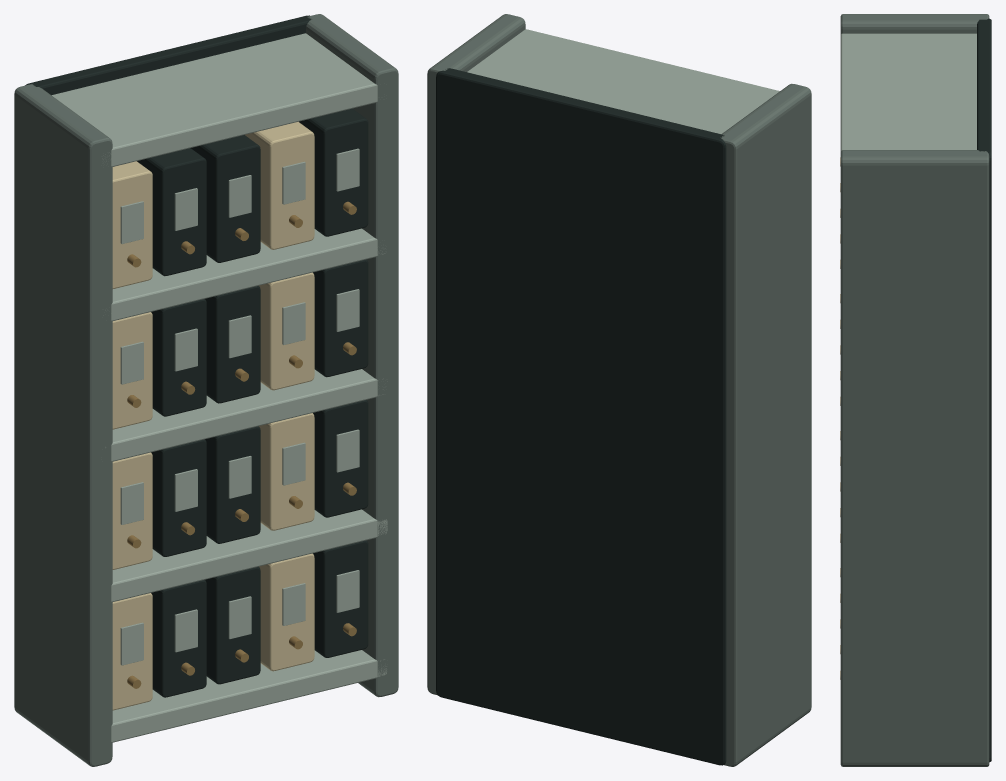
File: archive-rack.glb
3 views of the same model, side by side, from view 1: azimuth 30°, elevation 25°; view 2: azimuth 150°, elevation 25°; view 3: azimuth 270°, elevation 25° (orthographic). The views are drawn at different scales.
Parts seen in each view (by area): view 1: archive-rack-steel, archive-rack-enamel, archive-rack-dark, archive-rack-ivory, archive-rack-brass; view 2: archive-rack-dark, archive-rack-steel, archive-rack-enamel; view 3: archive-rack-steel, archive-rack-enamel, archive-rack-dark.
Boxes of the visible parts, box(x1,y1,x2,y2) form: archive-rack-steel: box(14, 14, 398, 766); archive-rack-enamel: box(52, 33, 387, 742); archive-rack-dark: box(25, 15, 368, 697); archive-rack-ivory: box(112, 121, 314, 710); archive-rack-brass: box(127, 201, 356, 688); archive-rack-dark: box(436, 68, 726, 765); archive-rack-steel: box(427, 14, 811, 766); archive-rack-enamel: box(467, 29, 779, 134); archive-rack-steel: box(840, 14, 989, 766); archive-rack-enamel: box(840, 33, 976, 151); archive-rack-dark: box(977, 18, 991, 762).
Size of the model in its own units: 1.41 by 2.72 by 0.6125.
